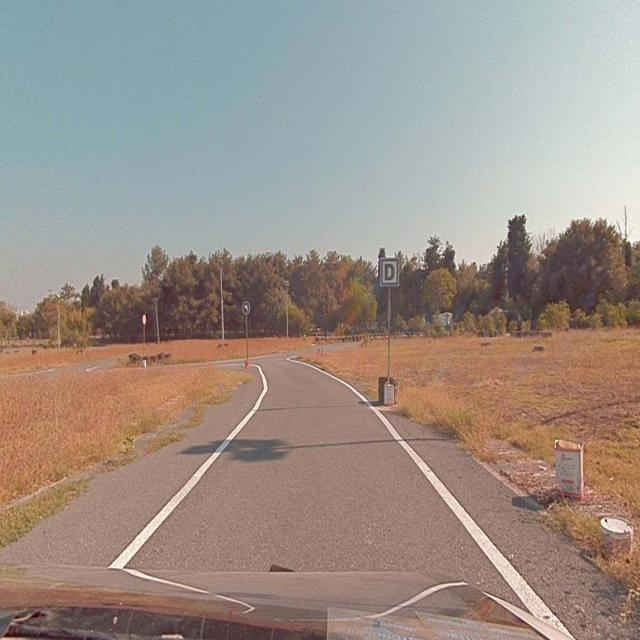durak: (381, 258, 398, 284)
sol: (243, 301, 250, 313)
